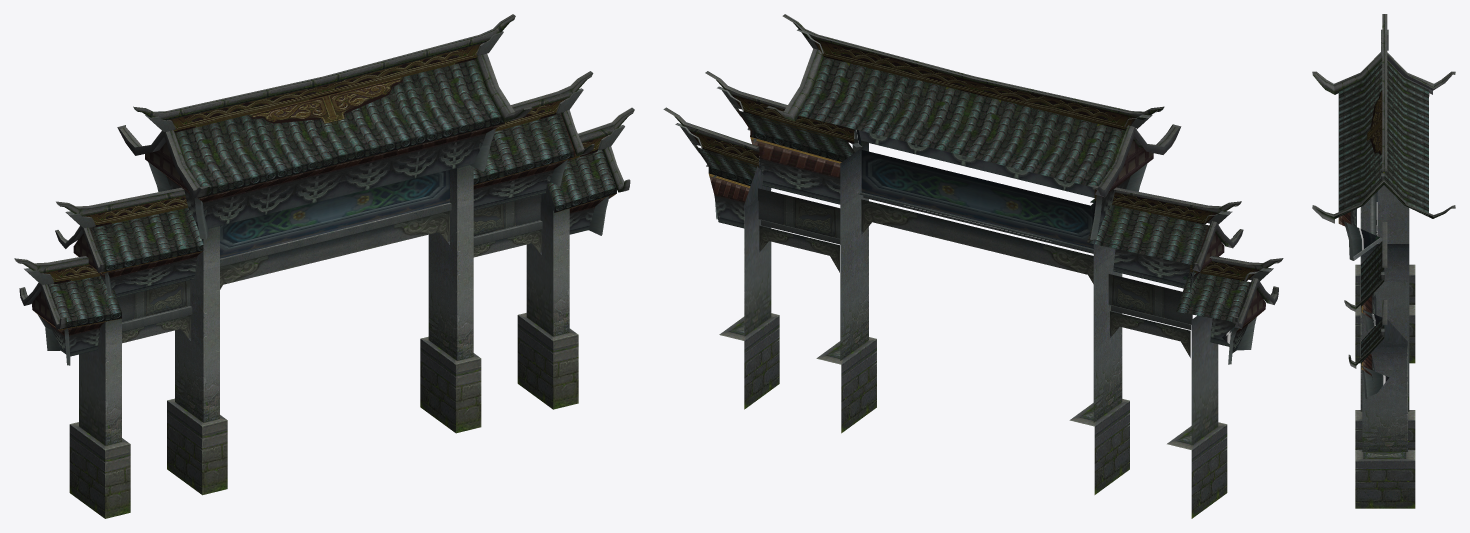
Rendered from zc_erhai_paifang01.FBX.
3 views of the same model, side by side, from view 1: azimuth 30°, elevation 25°; view 2: azimuth 150°, elevation 25°; view 3: azimuth 270°, elevation 25° (orthographic). The views are drawn at different scales.
Parts seen in each view (by area): view 1: zc_erhai_paifang01; view 2: zc_erhai_paifang01; view 3: zc_erhai_paifang01.
Boxes of the visible parts, bbox=[...] form: zc_erhai_paifang01: bbox=[14, 14, 634, 518]; zc_erhai_paifang01: bbox=[663, 14, 1283, 518]; zc_erhai_paifang01: bbox=[1312, 14, 1455, 508].
Size of the model in its own units: 908 by 544 by 215.
